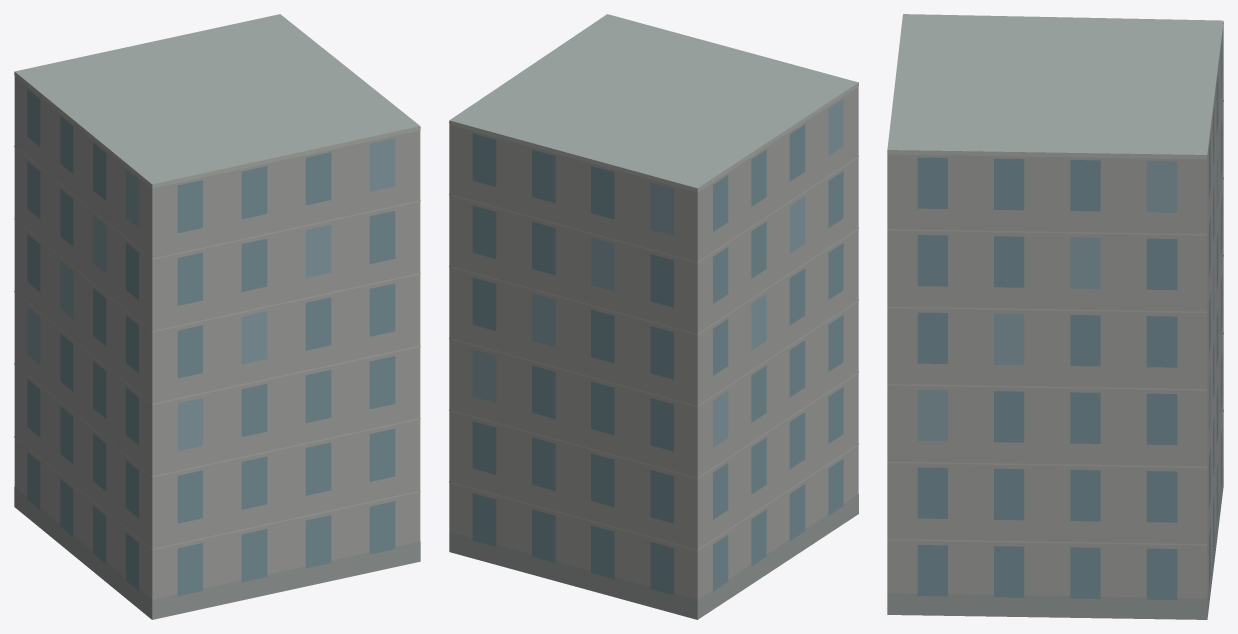
File: survey-upis-32693819.glb
3 views of the same model, side by side, from view 1: azimuth 30°, elevation 25°; view 2: azimuth 150°, elevation 25°; view 3: azimuth 270°, elevation 25° (orthographic). The views are drawn at different scales.
Parts seen in each view (by area): view 1: survey-upis-32693819.tmp; view 2: survey-upis-32693819.tmp; view 3: survey-upis-32693819.tmp.
Boxes of the visible parts, x1=… form: survey-upis-32693819.tmp: x1=14, y1=14, x2=420, y2=619; survey-upis-32693819.tmp: x1=449, y1=14, x2=858, y2=619; survey-upis-32693819.tmp: x1=887, y1=14, x2=1223, y2=619.
Bounding box in the file's own units: 16.16 × 24.8 × 16.28.
